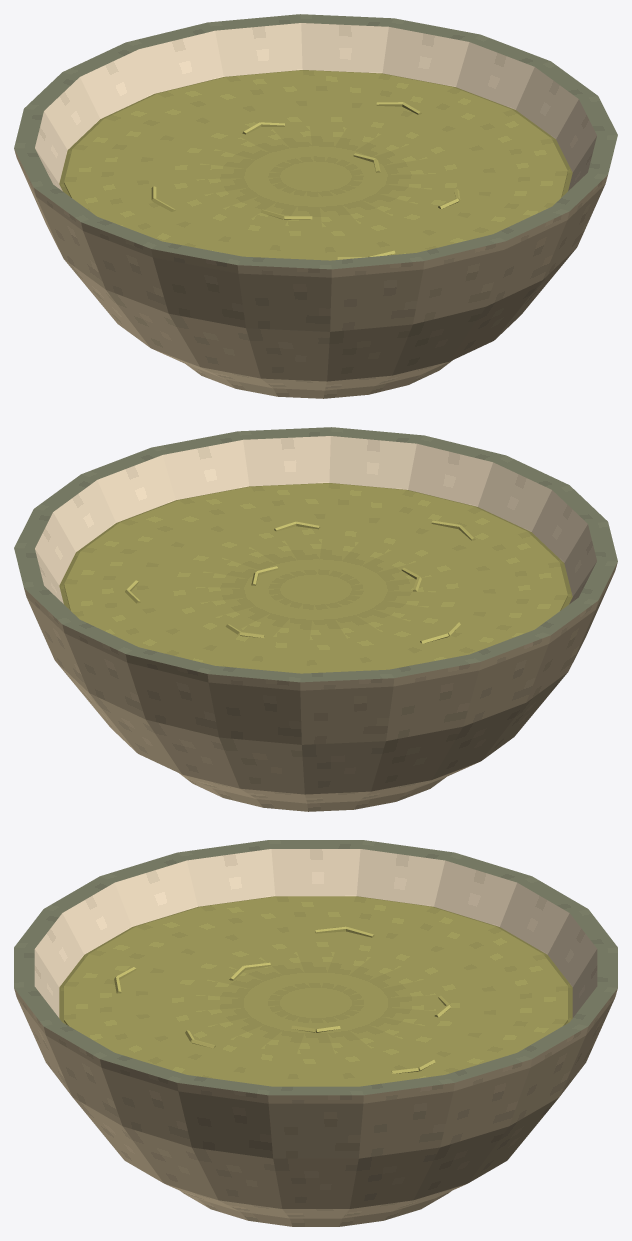
Rendered from broth.glb.
3 views of the same model, one above another, from view 1: azimuth 30°, elevation 25°; view 2: azimuth 150°, elevation 25°; view 3: azimuth 270°, elevation 25° (orthographic).
Parts seen in each view (by area): view 1: block_deep open soup bowl, block_soup surface, block_shaded liquid meniscus; view 2: block_deep open soup bowl, block_soup surface, block_shaded liquid meniscus; view 3: block_deep open soup bowl, block_soup surface, block_shaded liquid meniscus.
Boxes of the visible parts, box(x1,y1,x2,y2) form: block_deep open soup bowl: box(14, 14, 617, 398); block_soup surface: box(64, 70, 567, 260); block_shaded liquid meniscus: box(59, 70, 572, 196); block_deep open soup bowl: box(14, 427, 617, 811); block_soup surface: box(64, 483, 567, 673); block_shaded liquid meniscus: box(59, 483, 572, 609); block_deep open soup bowl: box(14, 840, 617, 1226); block_soup surface: box(64, 896, 567, 1086); block_shaded liquid meniscus: box(59, 896, 572, 1023).
Bounding box in the file's own units: 0.114 × 0.0411 × 0.114.
1 material, 1 textured.
